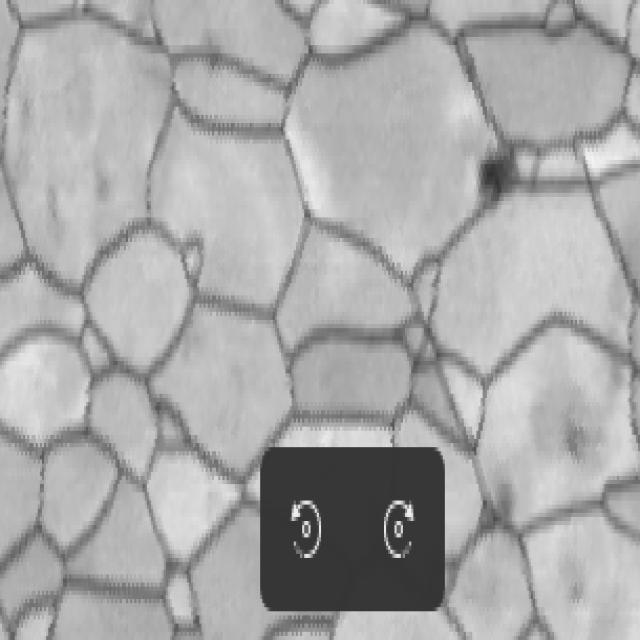good_void: (527, 389, 614, 486), (470, 130, 525, 237), (470, 466, 527, 553), (190, 16, 228, 86)
